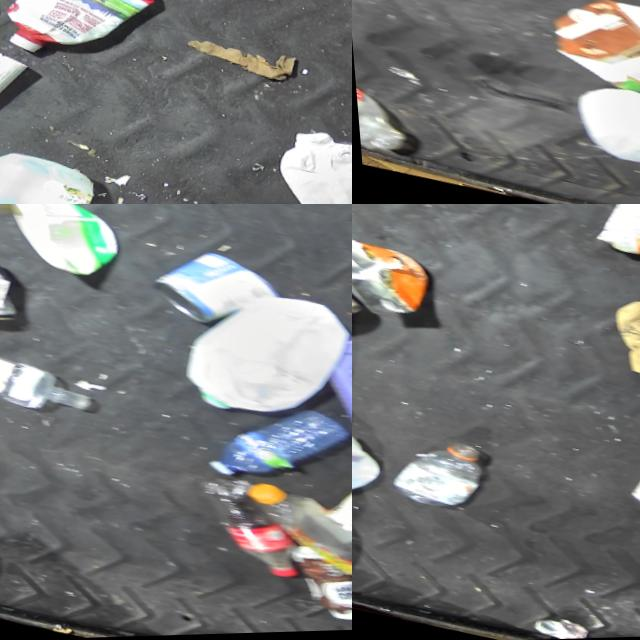can: (160, 272, 352, 441), (134, 238, 288, 345), (352, 223, 436, 329), (0, 249, 25, 332), (615, 449, 640, 526), (518, 612, 582, 640)
milk_jug: (553, 75, 640, 184), (246, 119, 352, 204)
plastic_bottle: (171, 468, 311, 588), (220, 478, 352, 588), (375, 427, 485, 519), (352, 60, 411, 156)
